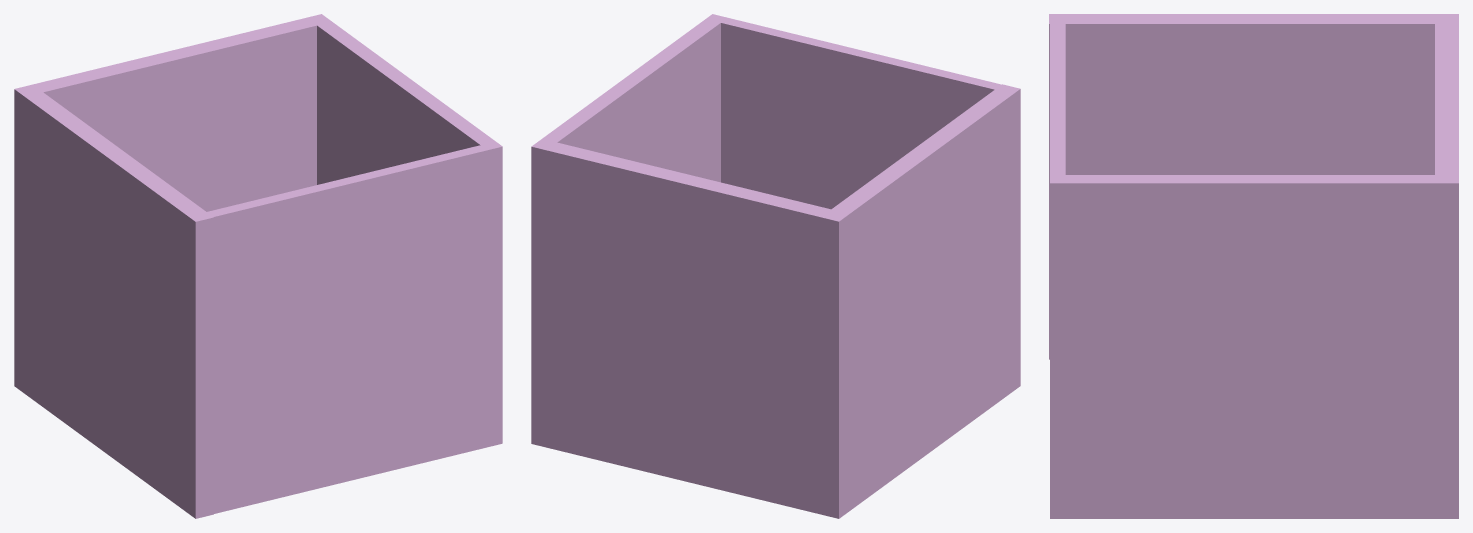
File: Walls.fbx
3 views of the same model, side by side, from view 1: azimuth 30°, elevation 25°; view 2: azimuth 150°, elevation 25°; view 3: azimuth 270°, elevation 25° (orthographic). The views are drawn at different scales.
Visible parts, largest first — view 1: Walls; view 2: Walls; view 3: Walls.
Part boxes in pixels (left/top/right/bottom): Walls: left=14, top=14, right=502, bottom=518; Walls: left=531, top=14, right=1020, bottom=518; Walls: left=1049, top=14, right=1458, bottom=518.
Size of the model in its own units: 1020 by 941 by 1042.
